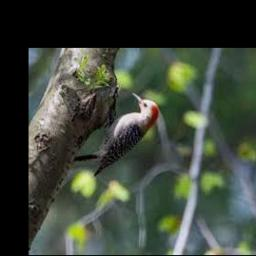Woodpecker: (72, 91, 158, 176)
